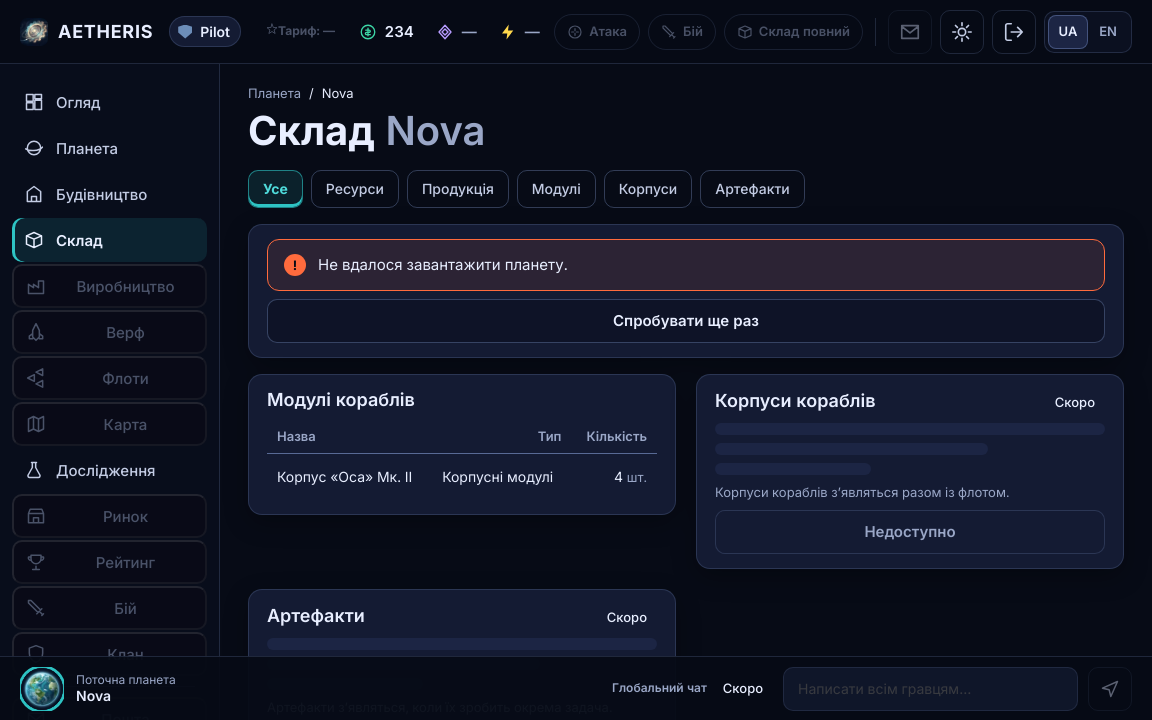
StoragePage: the screen of the storage (task 00020) › shows the error with a retry when the body did not load
Expected: the text "Не вдалося завантажити планету." is shown, [318,254,568,275]
Click the button "Спробувати ще раз" at (686,321), box [267,299,1105,343]
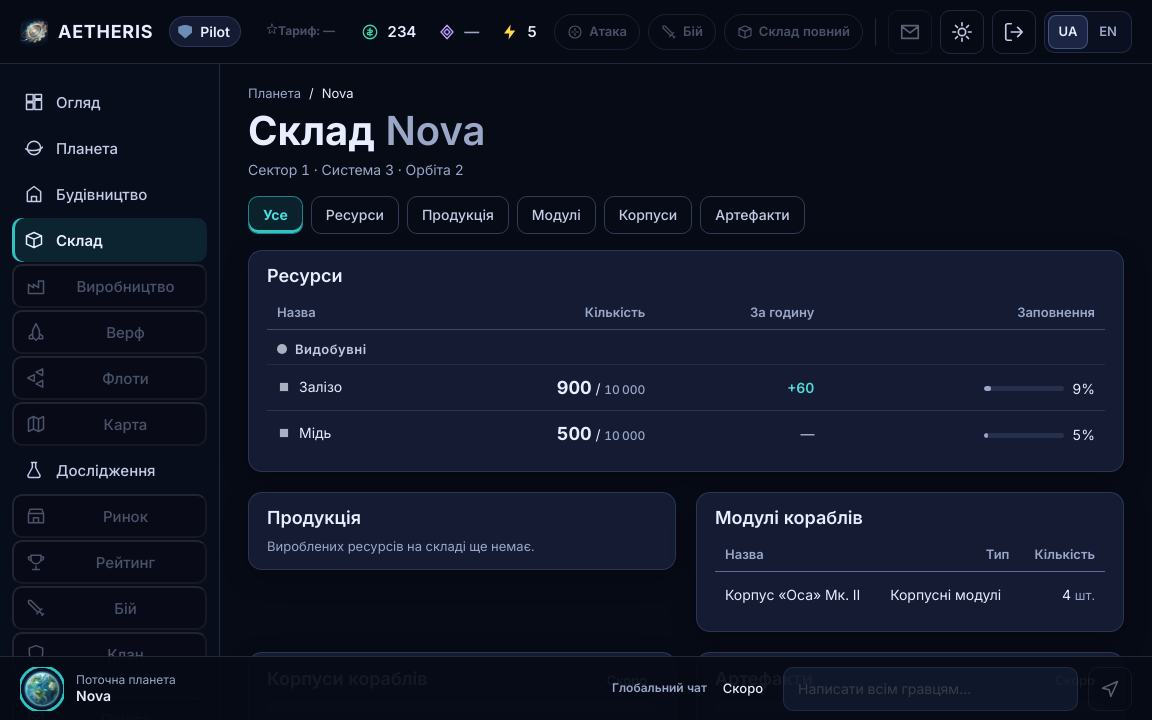
Now the element "Ресурси" is shown, box [248,250,1124,472]
